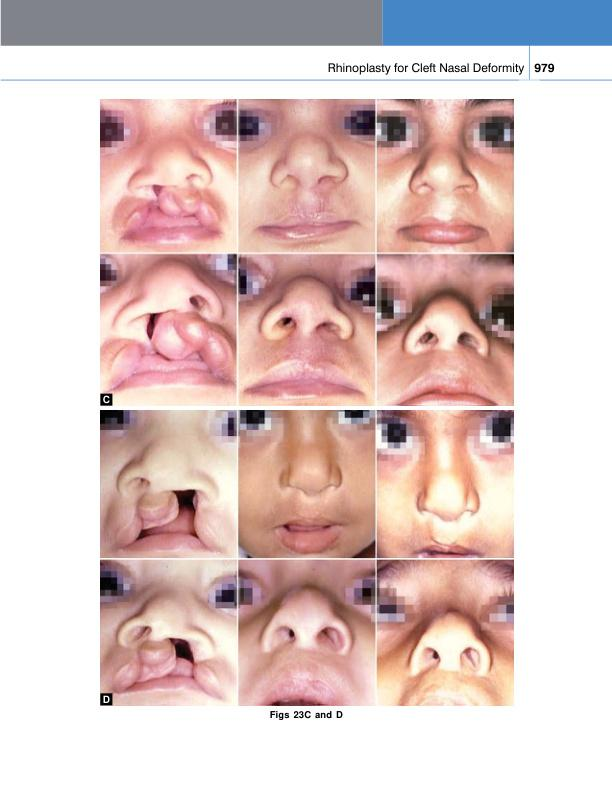caption: (269, 708, 344, 721), (102, 695, 111, 705), (102, 394, 111, 404)
header: (326, 60, 525, 76)
image: (99, 98, 515, 406), (100, 409, 516, 706)
